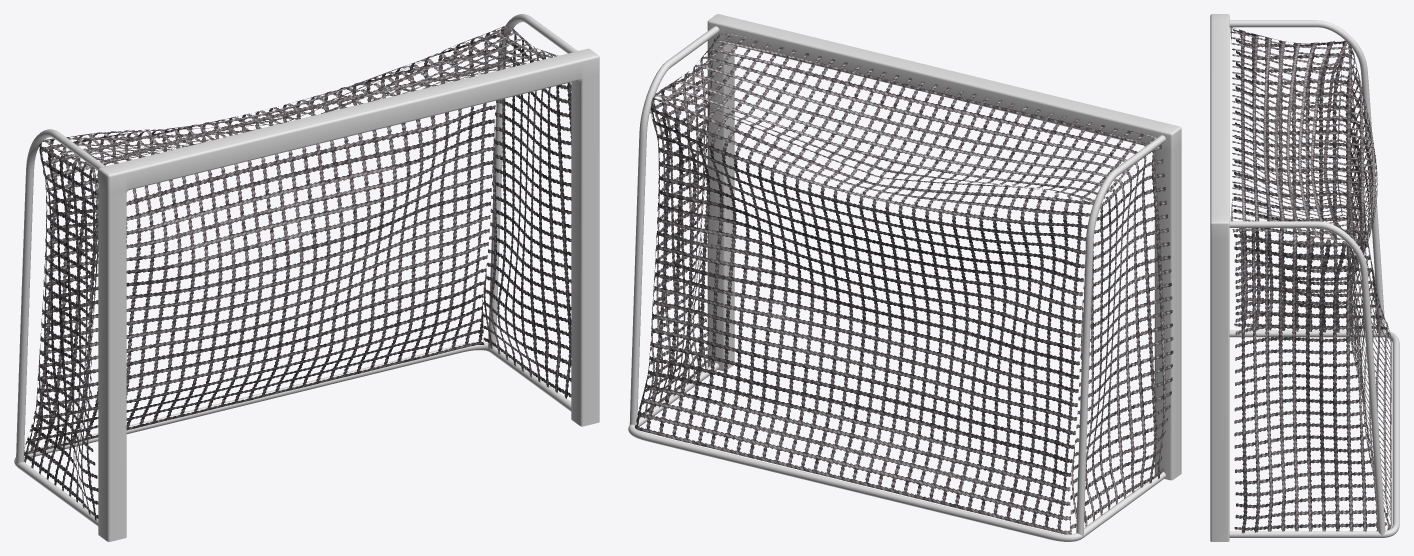
File: Post 1.fbx
3 renders of one model, left to right at view 1: azimuth 30°, elevation 25°; view 2: azimuth 150°, elevation 25°; view 3: azimuth 270°, elevation 25°, orthographic. The views are drawn at different scales.
Parts seen in each view (by area): view 1: Net.001, Pole, pole.001; view 2: Net.001, Pole, pole.001; view 3: Net.001, Pole, pole.001.
Part boxes in pixels (left/top/right/bottom): Net.001: left=24, top=26, right=571, bottom=520; Pole: left=98, top=48, right=599, bottom=541; pole.001: left=14, top=14, right=577, bottom=526; Net.001: left=635, top=33, right=1173, bottom=534; Pole: left=707, top=14, right=1181, bottom=480; pole.001: left=628, top=26, right=1165, bottom=541; Net.001: left=1230, top=27, right=1391, bottom=533; Pole: left=1210, top=14, right=1229, bottom=541; pole.001: left=1229, top=20, right=1399, bottom=537.
Size of the model in its own units: 284 by 200 by 107.
